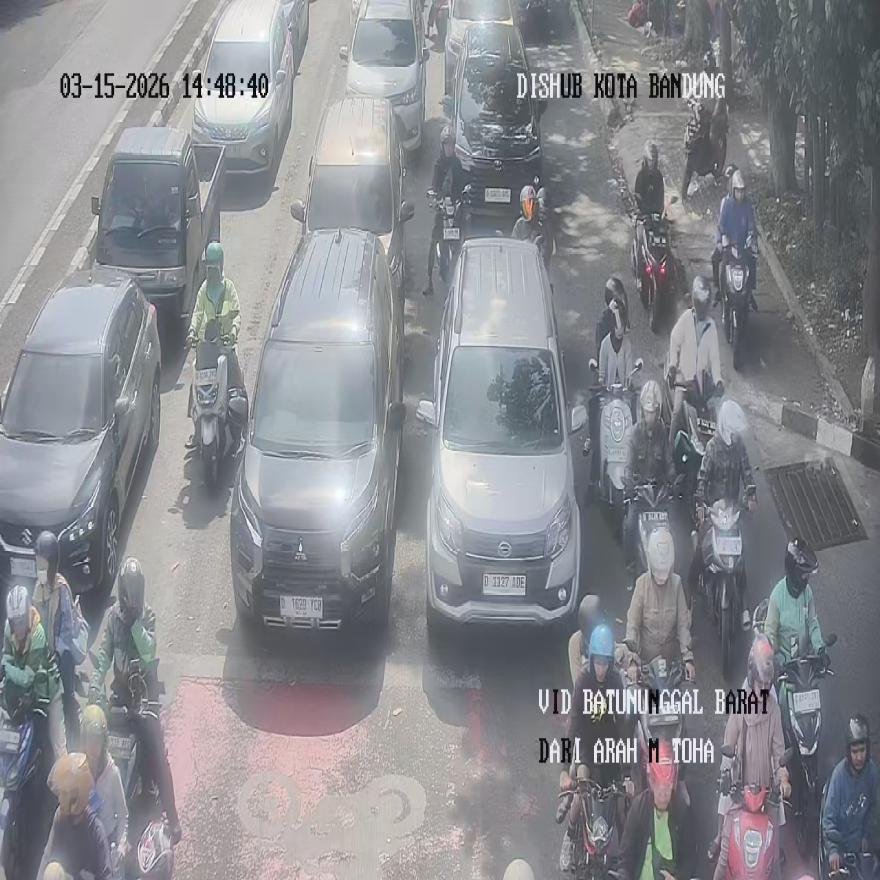Motor: (230, 228, 405, 634), (416, 237, 586, 631), (0, 272, 162, 604), (90, 127, 226, 331), (291, 93, 413, 304), (443, 18, 547, 209), (190, 0, 294, 176), (339, 0, 431, 165)
Truk: (774, 638, 834, 859), (693, 486, 756, 676), (714, 744, 790, 880), (36, 750, 113, 879), (586, 358, 642, 532), (187, 323, 245, 490), (557, 764, 632, 880), (0, 700, 44, 880), (638, 654, 691, 803), (667, 369, 723, 496), (819, 764, 878, 880), (624, 480, 676, 586), (681, 84, 728, 200), (718, 235, 756, 369), (632, 209, 670, 334), (428, 182, 472, 287), (512, 180, 554, 264)
